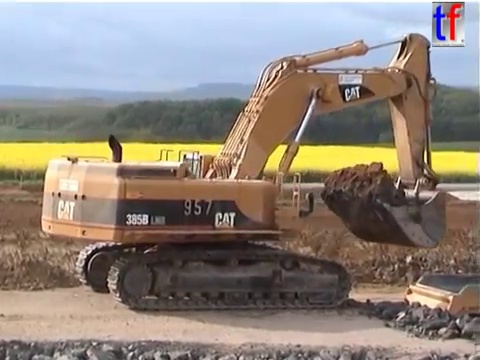excavator: (38, 30, 450, 312)
truck: (401, 270, 480, 329)
